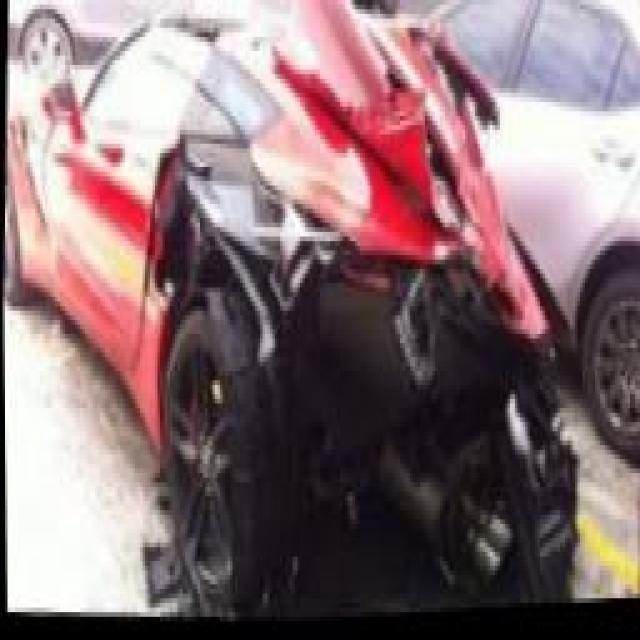Bumper: (245, 227, 556, 610)
Dickey: (248, 19, 470, 248)
Fender: (155, 153, 259, 321)
